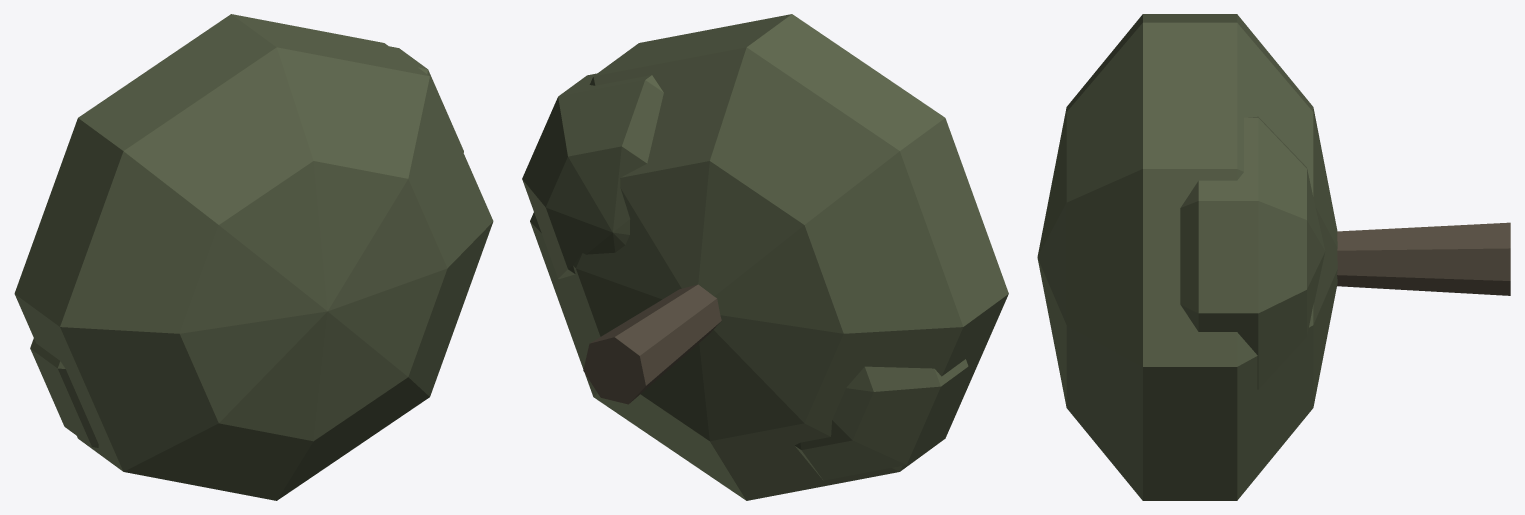
Rendered from tree-olive.glb.
3 views of the same model, side by side, from view 1: azimuth 30°, elevation 25°; view 2: azimuth 150°, elevation 25°; view 3: azimuth 270°, elevation 25° (orthographic). The views are drawn at different scales.
Visible parts, largest first — view 1: tree-olive; view 2: tree-olive; view 3: tree-olive.
Boxes of the visible parts, x1,y1,x2,y2 form: tree-olive: [14, 14, 493, 500]; tree-olive: [522, 14, 1008, 500]; tree-olive: [1037, 14, 1510, 500].
Bounding box in the file's own units: 4.04 × 4.04 × 3.69.
